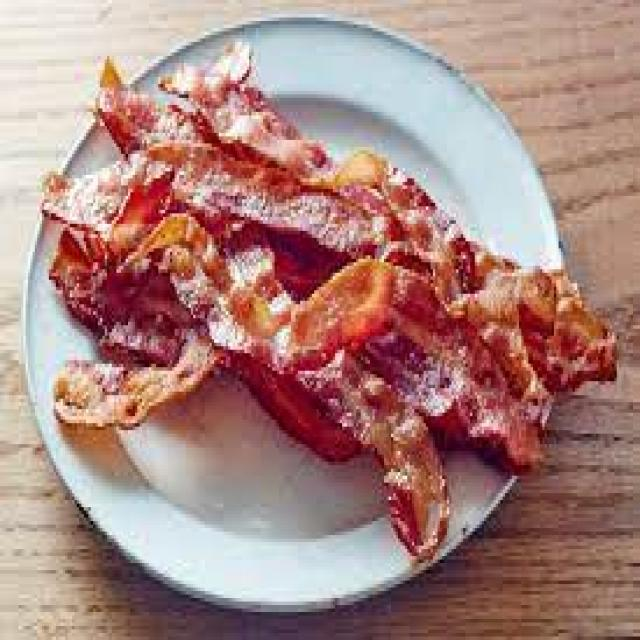Bacon: (125, 214, 395, 369), (43, 141, 392, 255), (300, 351, 449, 557)
